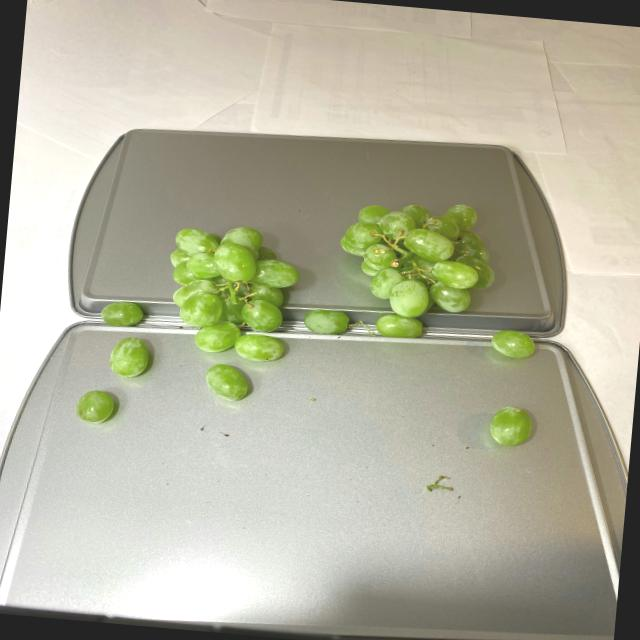grapes: (82, 172, 544, 460)
